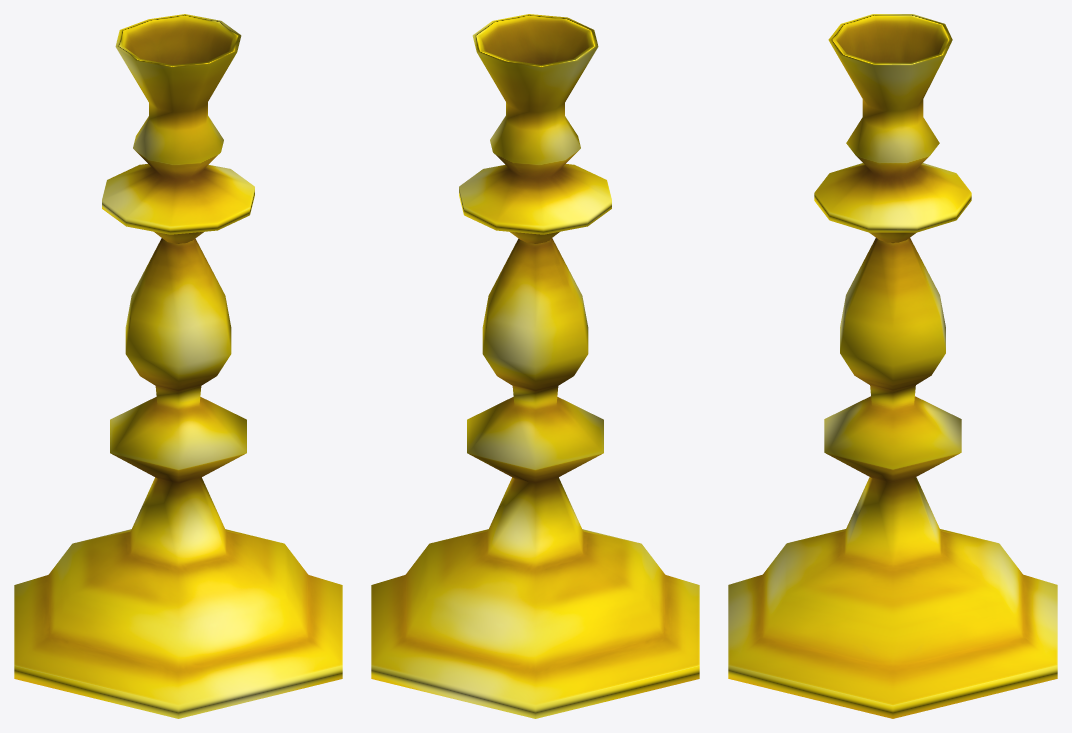
Rendered from candelabrum_04.fbx.
3 renders of one model, left to right at view 1: azimuth 30°, elevation 25°; view 2: azimuth 150°, elevation 25°; view 3: azimuth 270°, elevation 25°, orthographic.
Visible parts, largest first — view 1: candelabrum_04; view 2: candelabrum_04; view 3: candelabrum_04.
Boxes of the visible parts, box(x1,y1,x2,y2) form: candelabrum_04: box(14, 14, 342, 718); candelabrum_04: box(371, 14, 699, 718); candelabrum_04: box(728, 14, 1057, 718).
Size of the model in its own units: 11.52 by 20.02 by 9.97.
